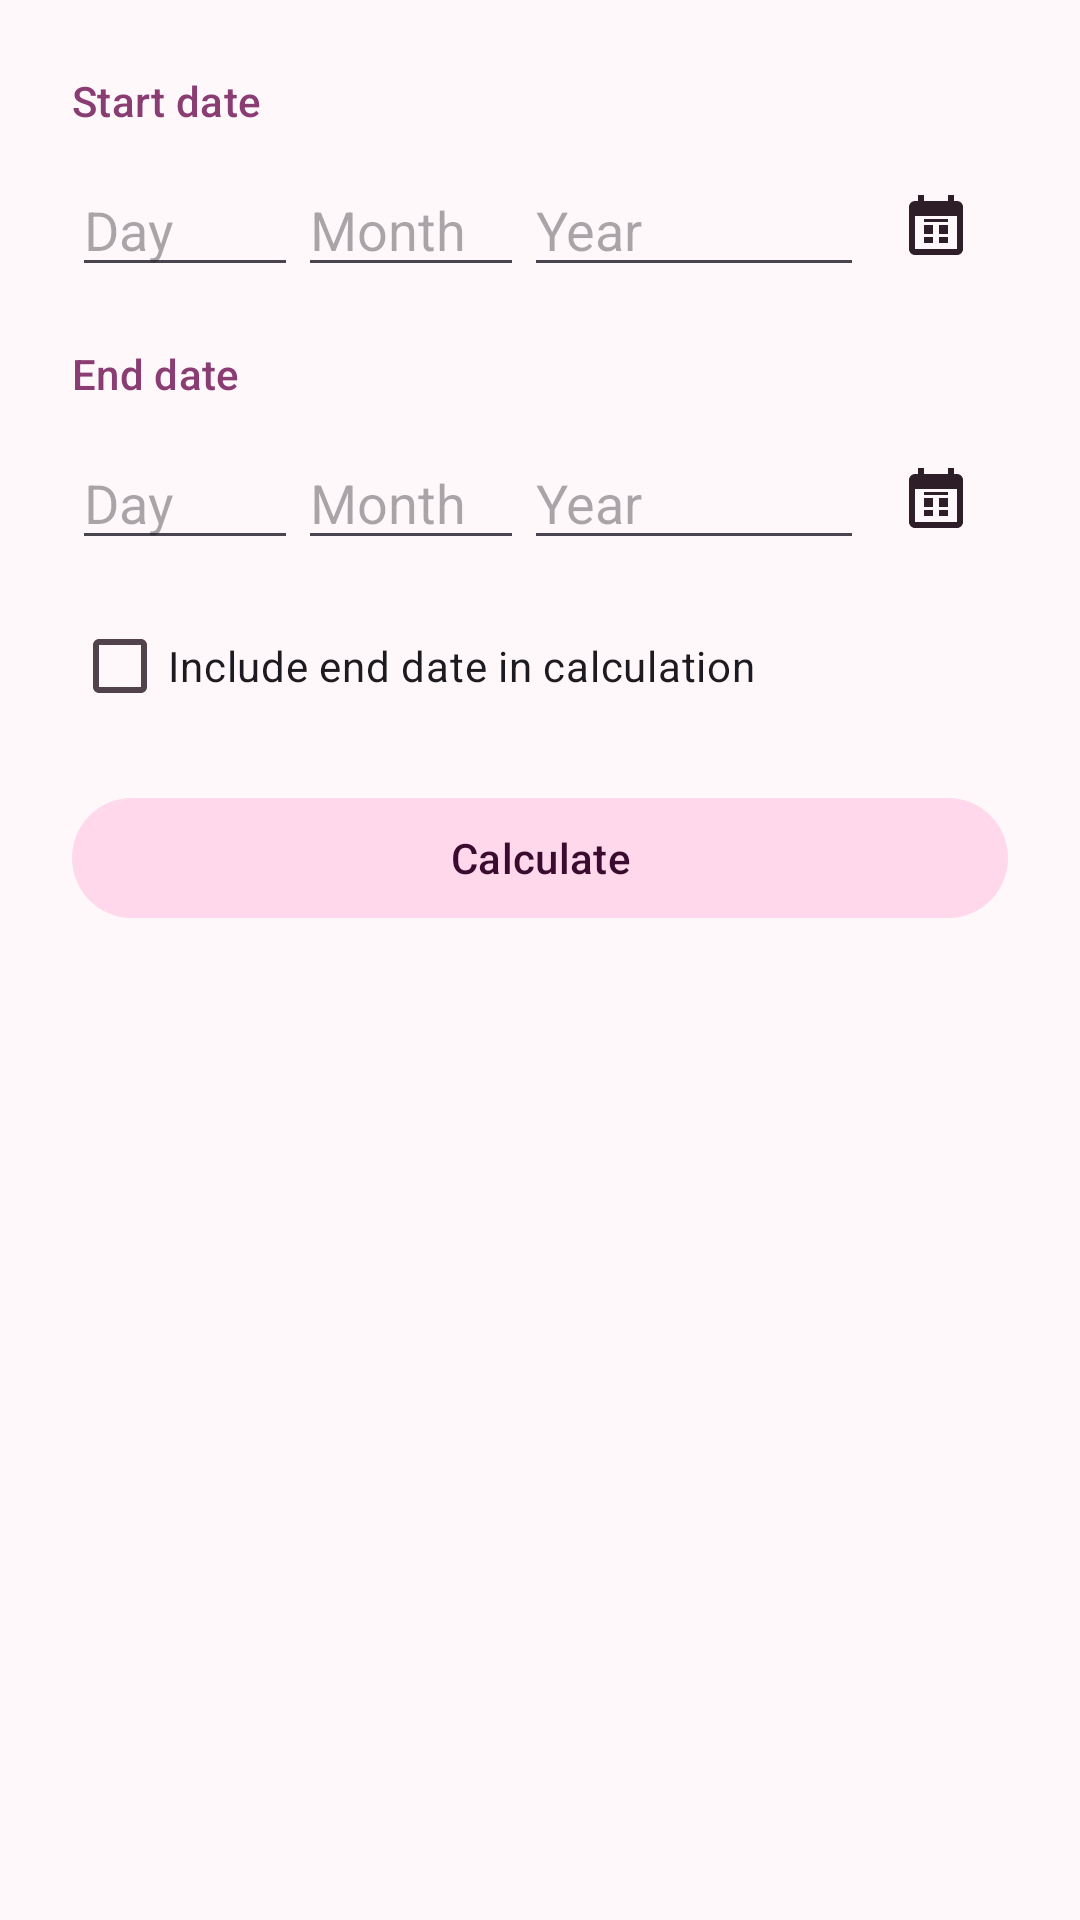

Locate icon controls on the screen. Image size 1080x1920, boxes as (x1, y1, x2, y2).
Start date: (909, 195, 963, 255)
